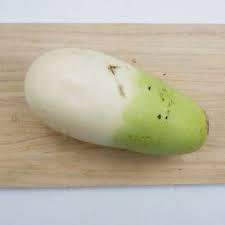radish: (8, 16, 74, 56)
